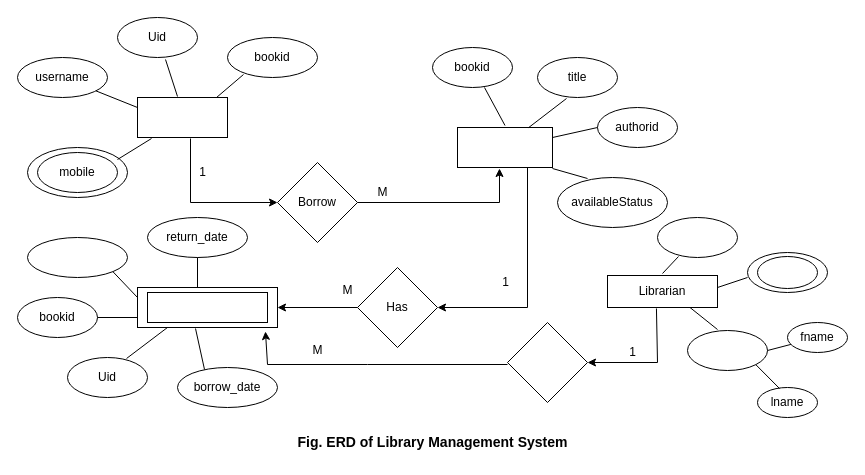
This 865x475 diagram has some shape labels left out. Here are the shapes that lost their labels. From the top down, the centre of each, then its label:
[182,117]: User
[504,147]: Book
[77,257]: Record_Id
[697,237]: lib_id
[787,272]: email
[207,307]: Borrowing_Record
[547,362]: Manages
[727,350]: lib_name
